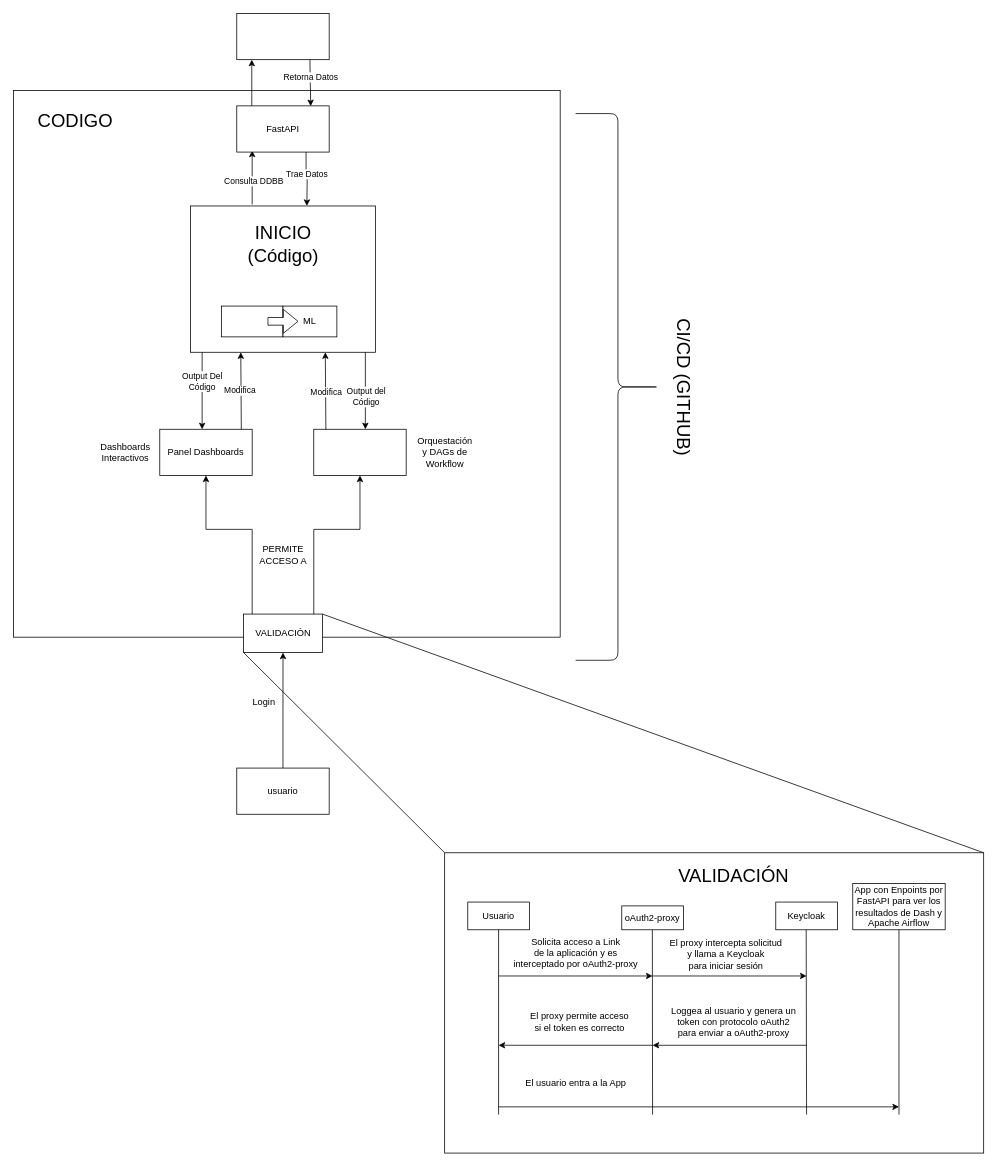
The diagram is 998 pixels wide and 1167 high, and some of its shapes have lost their labels. Here are the shapes that lost their labels. From the top down, the box of each, then its label:
(236, 13, 329, 60): DDBB
(190, 205, 375, 352): Workflow
(221, 305, 283, 337): ETL
(313, 429, 406, 475): Apache Airflow
